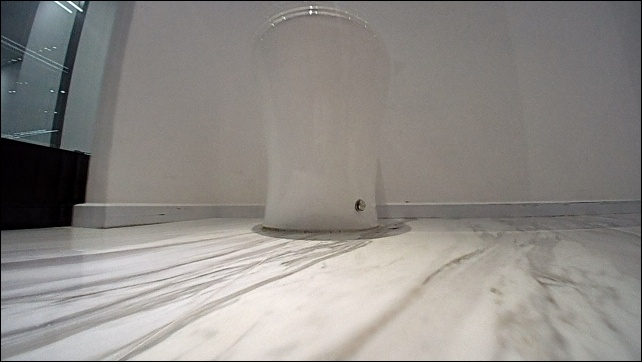toilet: (245, 2, 390, 235)
